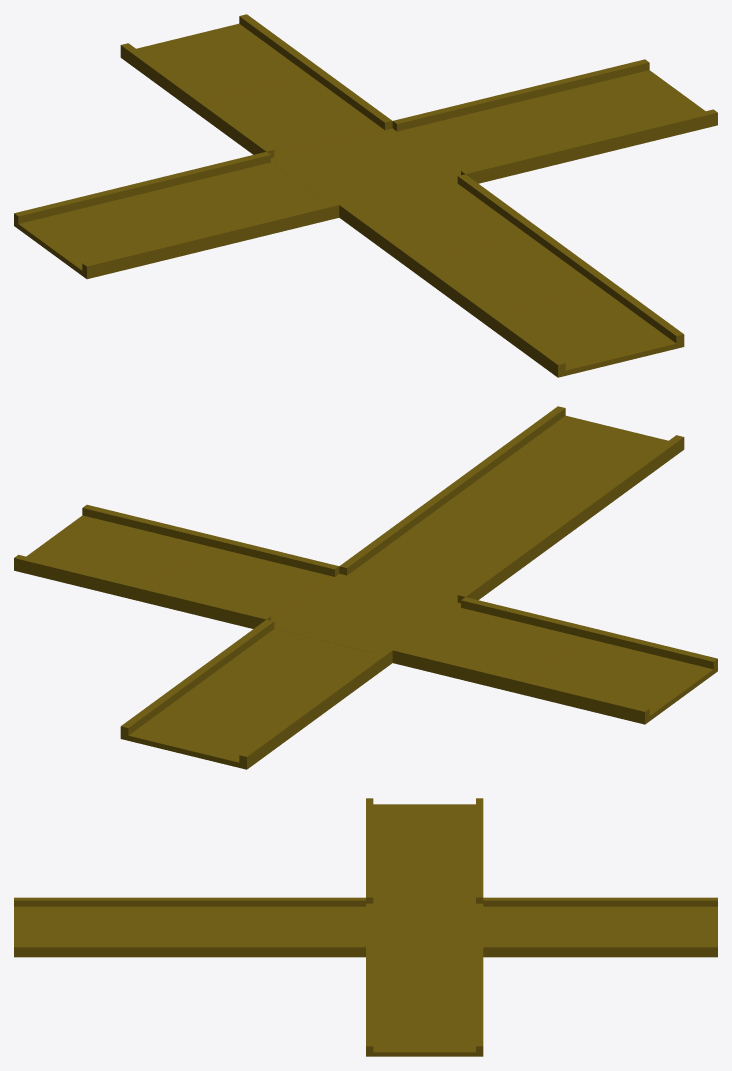
The model's file is faceGroundPath.fbx.
3 renders of one model, top to bottom at view 1: azimuth 30°, elevation 25°; view 2: azimuth 150°, elevation 25°; view 3: azimuth 270°, elevation 25°, orthographic. The views are drawn at different scales.
Visible parts, largest first — view 1: pCube12, pCube5, pCube10, pCube13, pCube11, pCube8, pCube9, pCube14, pCube15, pCube7; view 2: pCube12, pCube14, pCube10, pCube13, pCube11, pCube9, pCube8, pCube5, pCube15, pCube7; view 3: pCube8, pCube15, pCube9, pCube14, pCube5, pCube13, pCube10, pCube7, pCube11, pCube12.
Part boxes in pixels (bbox=[...]): pCube12: bbox=[14, 182, 212, 279]; pCube5: bbox=[485, 281, 684, 377]; pCube10: bbox=[140, 151, 339, 248]; pCube13: bbox=[519, 59, 717, 155]; pCube11: bbox=[392, 90, 591, 183]; pCube8: bbox=[193, 67, 392, 157]; pCube9: bbox=[339, 174, 537, 270]; pCube14: bbox=[120, 14, 319, 110]; pCube15: bbox=[412, 227, 610, 323]; pCube7: bbox=[271, 128, 457, 208]; pCube12: bbox=[519, 628, 717, 724]; pCube14: bbox=[120, 673, 319, 769]; pCube10: bbox=[392, 597, 591, 693]; pCube13: bbox=[14, 504, 212, 601]; pCube11: bbox=[140, 535, 339, 628]; pCube9: bbox=[339, 513, 538, 603]; pCube8: bbox=[194, 619, 392, 715]; pCube5: bbox=[485, 406, 684, 502]; pCube15: bbox=[412, 459, 611, 555]; pCube7: bbox=[274, 573, 460, 653]; pCube8: bbox=[483, 897, 600, 957]; pCube15: bbox=[131, 897, 248, 957]; pCube9: bbox=[248, 897, 365, 957]; pCube14: bbox=[600, 897, 717, 957]; pCube5: bbox=[14, 897, 131, 957]; pCube13: bbox=[366, 996, 483, 1056]; pCube10: bbox=[366, 848, 483, 903]; pCube7: bbox=[366, 903, 483, 953]; pCube11: bbox=[366, 947, 483, 1002]; pCube12: bbox=[366, 798, 483, 853].
Size of the model in its own units: 2.6 by 0.05 by 3.12.
1 material, 1 textured.
